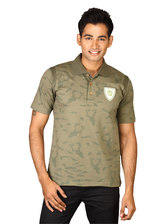clothoes: (24, 49, 142, 190)
